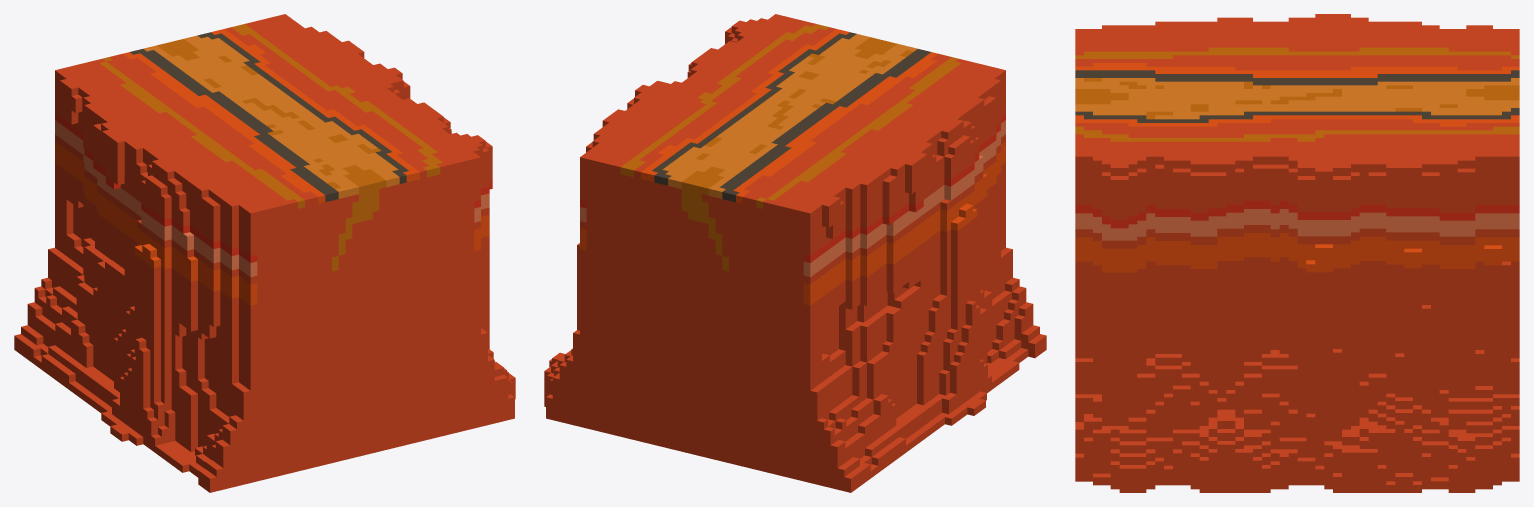
The model's file is western7-3.obj.
3 views of the same model, side by side, from view 1: azimuth 30°, elevation 25°; view 2: azimuth 150°, elevation 25°; view 3: azimuth 270°, elevation 25° (orthographic). The views are drawn at different scales.
Bounding box in the file's own units: 5 × 3.8 × 5.
1 material, 1 textured.
